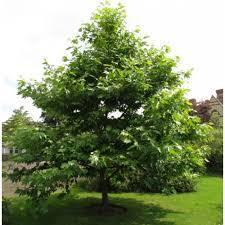tree: (15, 3, 205, 208)
